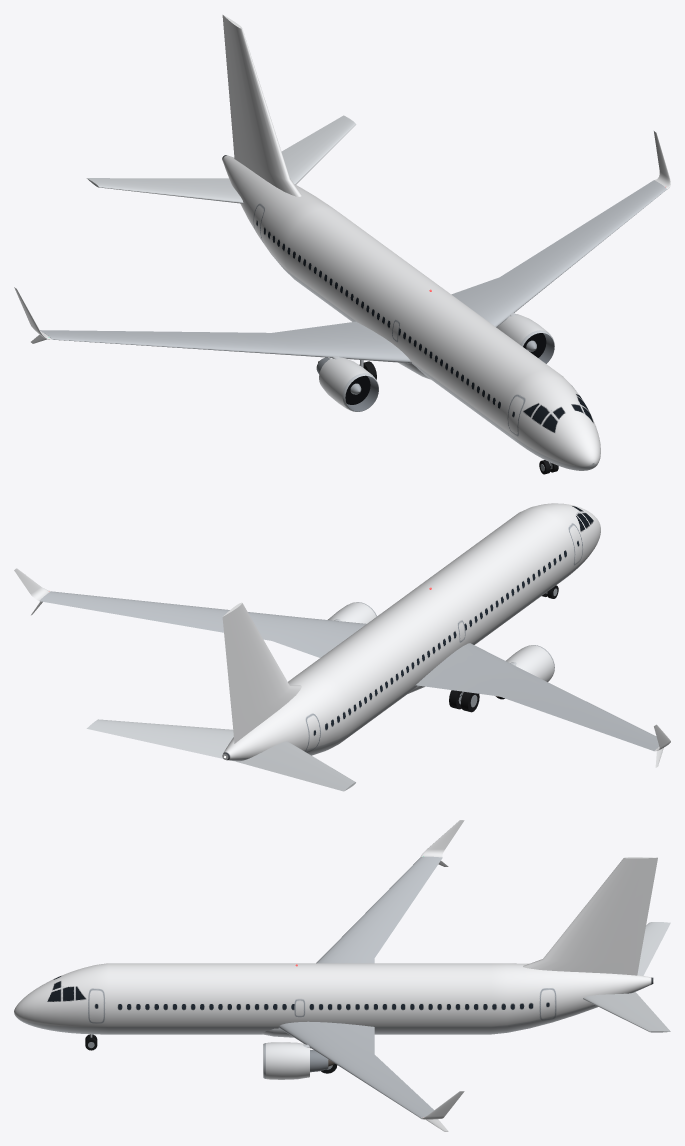
3 views of the same model, one above another, from view 1: azimuth 30°, elevation 25°; view 2: azimuth 150°, elevation 25°; view 3: azimuth 270°, elevation 25° (orthographic). The views are drawn at different scales.
Parts seen in each view (by area): view 1: body; view 2: body, gear; view 3: body.
Boxes of the visible parts, x1,y1,x2,y2 form: body: (14,15,670,470); body: (14,503,670,791); gear: (449,585,558,712); body: (14,820,670,1131).
Bounding box in the file's own units: 35.69 × 11.67 × 36.54.
19 materials, 1 textured.
